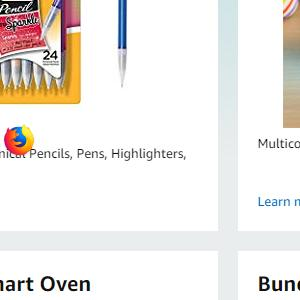firefox: (4, 122, 34, 155)
